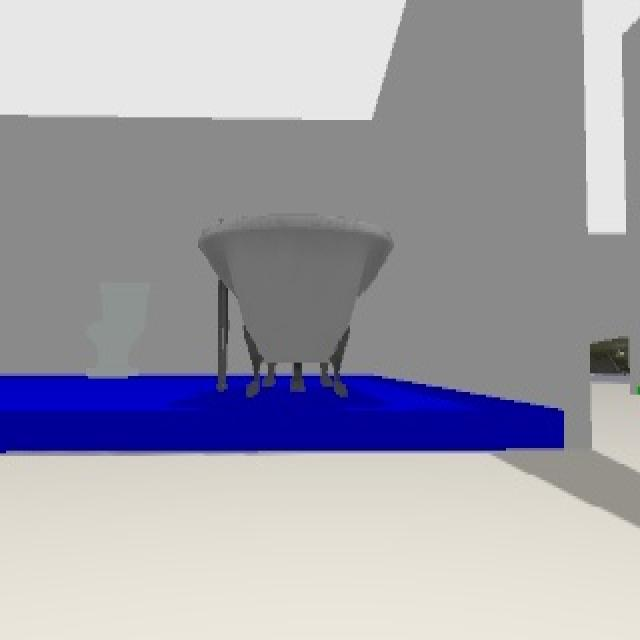bathtub: (192, 212, 397, 401)
